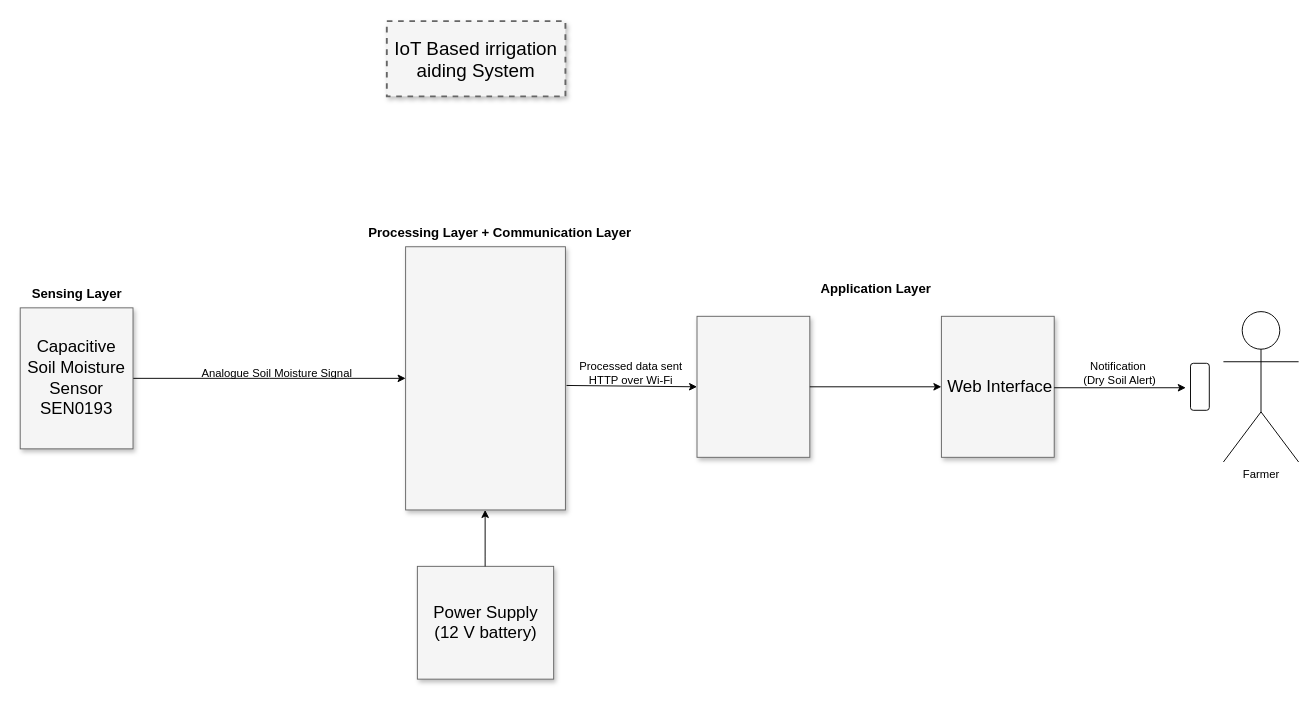
Some shapes in this 1315 by 702 pixel diagram are drawn without their labels. The shapes that lost their labels are listed below. From the top down, each one's centre as x and y in pixels, then its label:
point 486,379: Microcontroller Raspberry Pi Pico 2 W
point 753,388: Server Node.js
